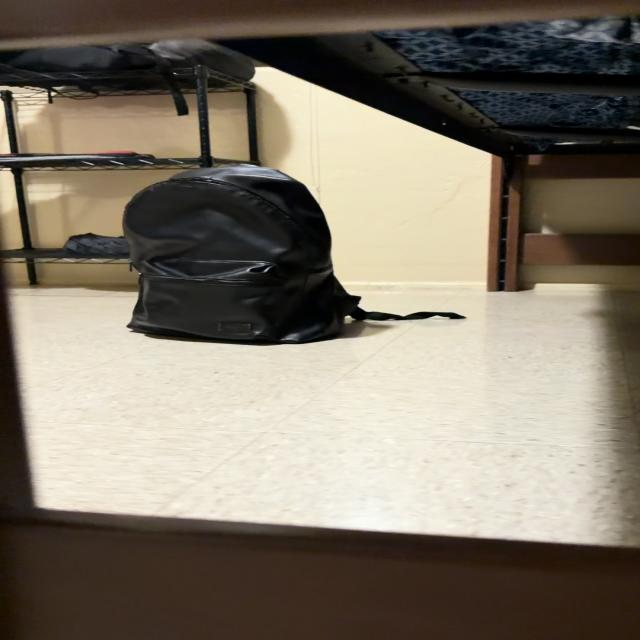backpack: (123, 165, 462, 343), (0, 39, 254, 114), (14, 80, 18, 82)
